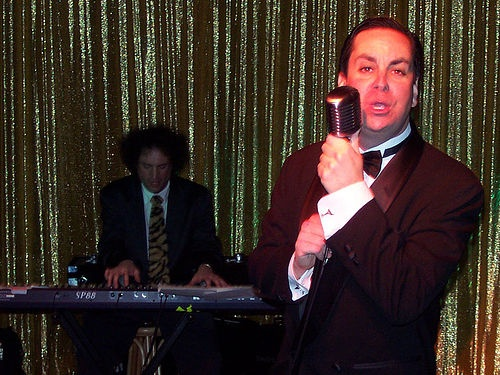head: (337, 21, 422, 137), (125, 129, 179, 199)
person: (250, 10, 483, 375), (78, 125, 229, 289)
